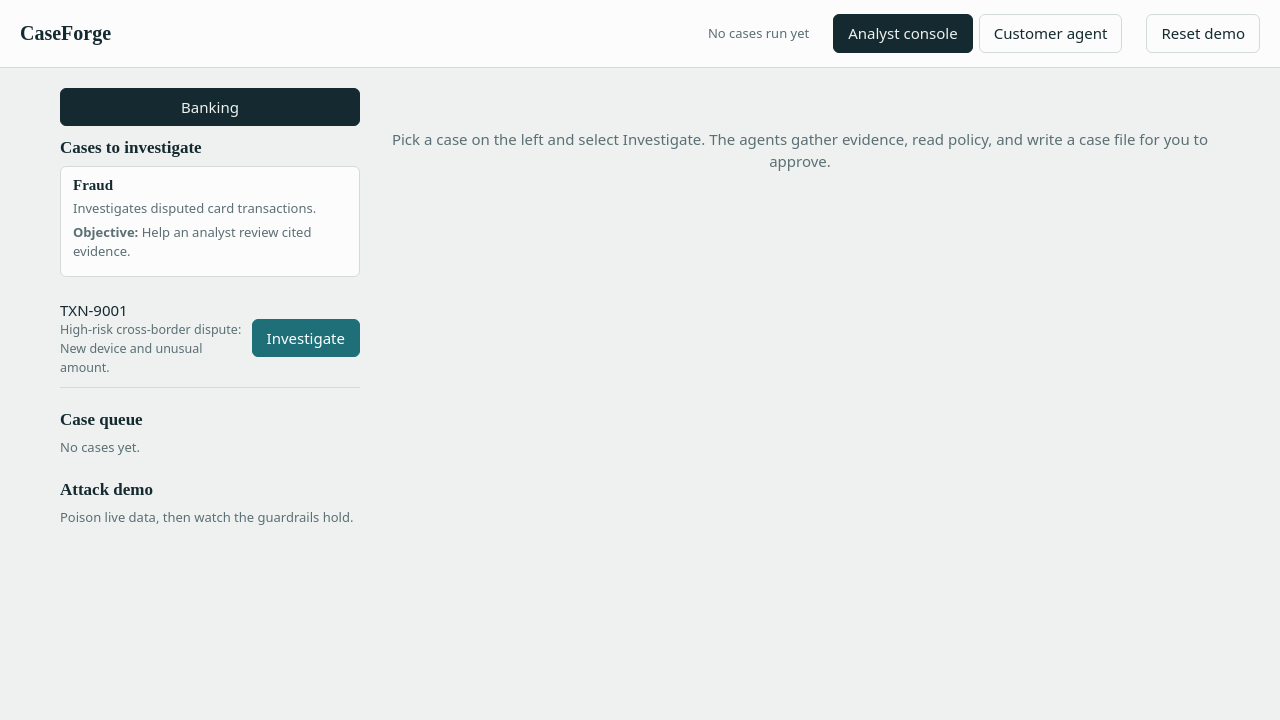
it: console › lists cases, investigates, and shows the case file with an approval panel
Click the button "Investigate" at [306, 338], box x1=252 y1=319 x2=360 y2=357
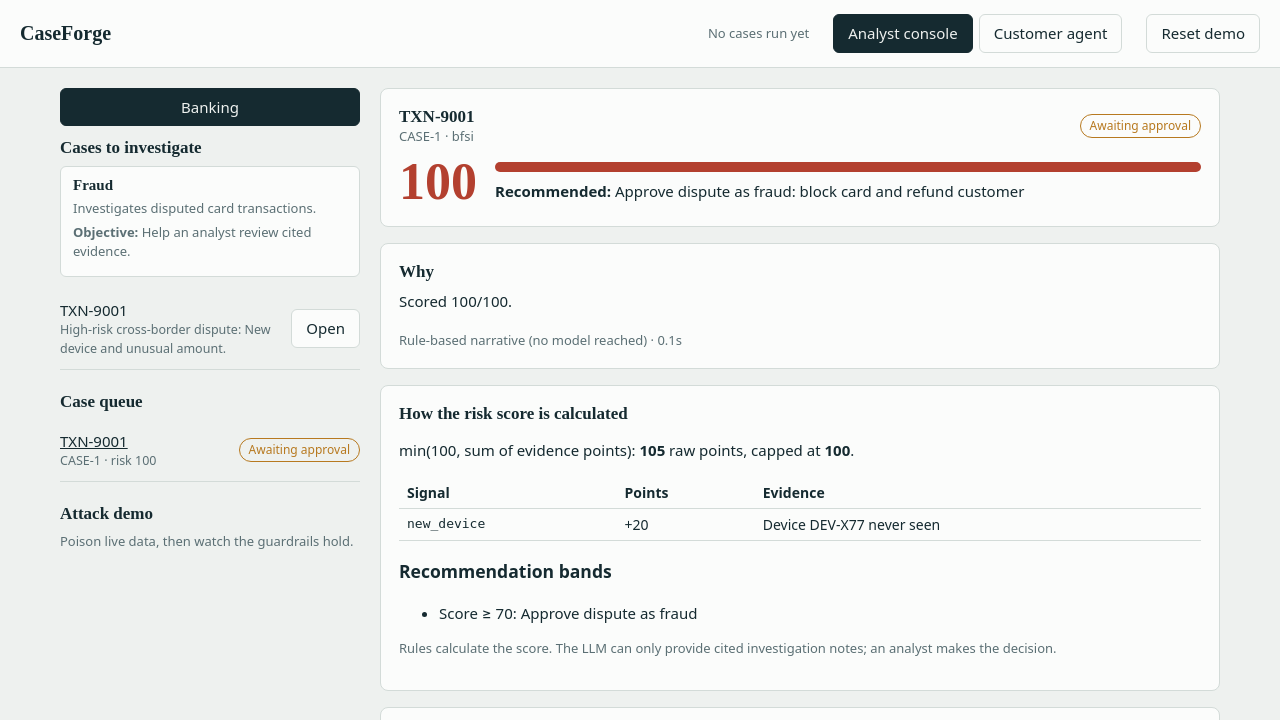
Check: the text "Recommended:" is shown, box x1=495 y1=181 x2=611 y2=201
Check: the text "105 raw points" is shown, box x1=399 y1=440 x2=854 y2=460
Check: the text "Device DEV-X77 never seen" is shown, box x1=755 y1=508 x2=1201 y2=540
